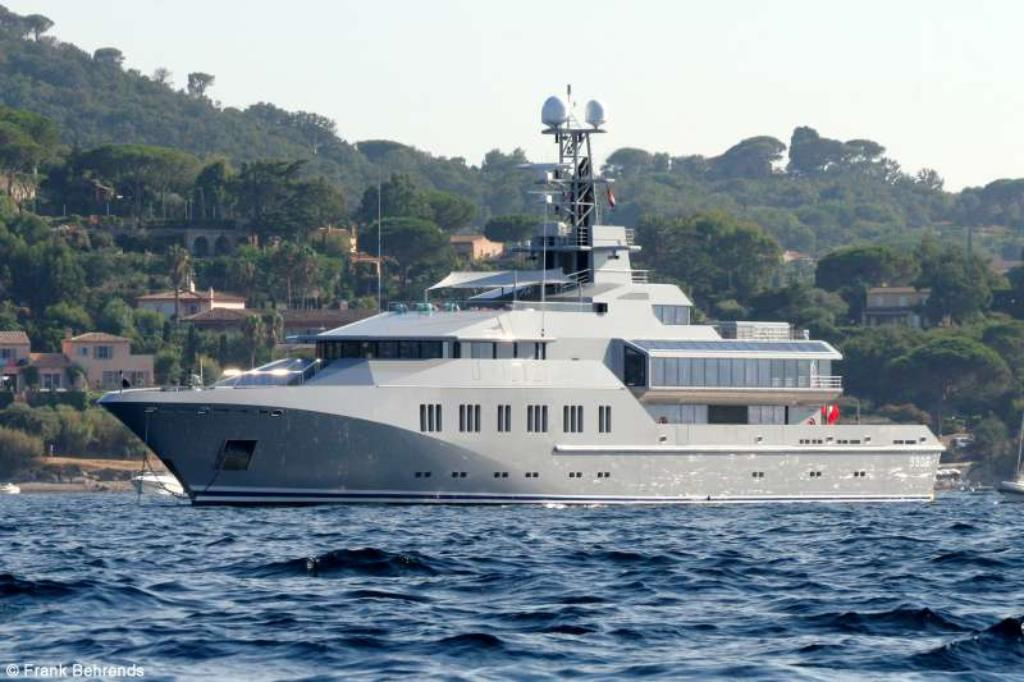PassengerShip: (87, 82, 949, 516)
